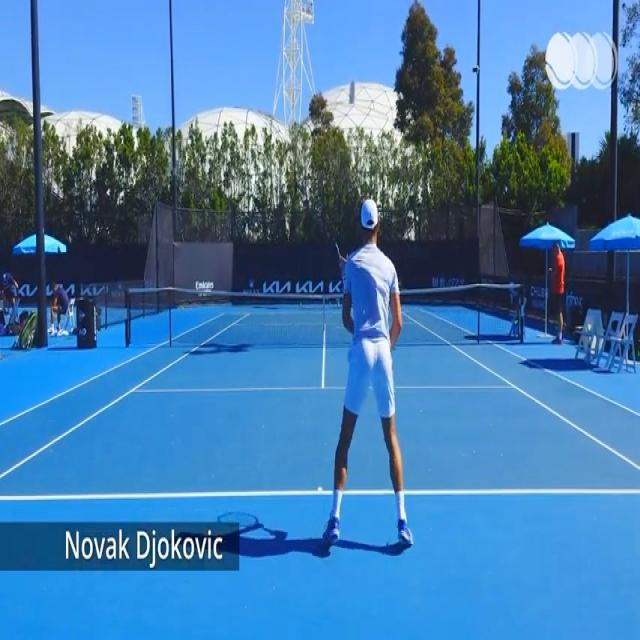ready-position: (326, 199, 413, 548)
